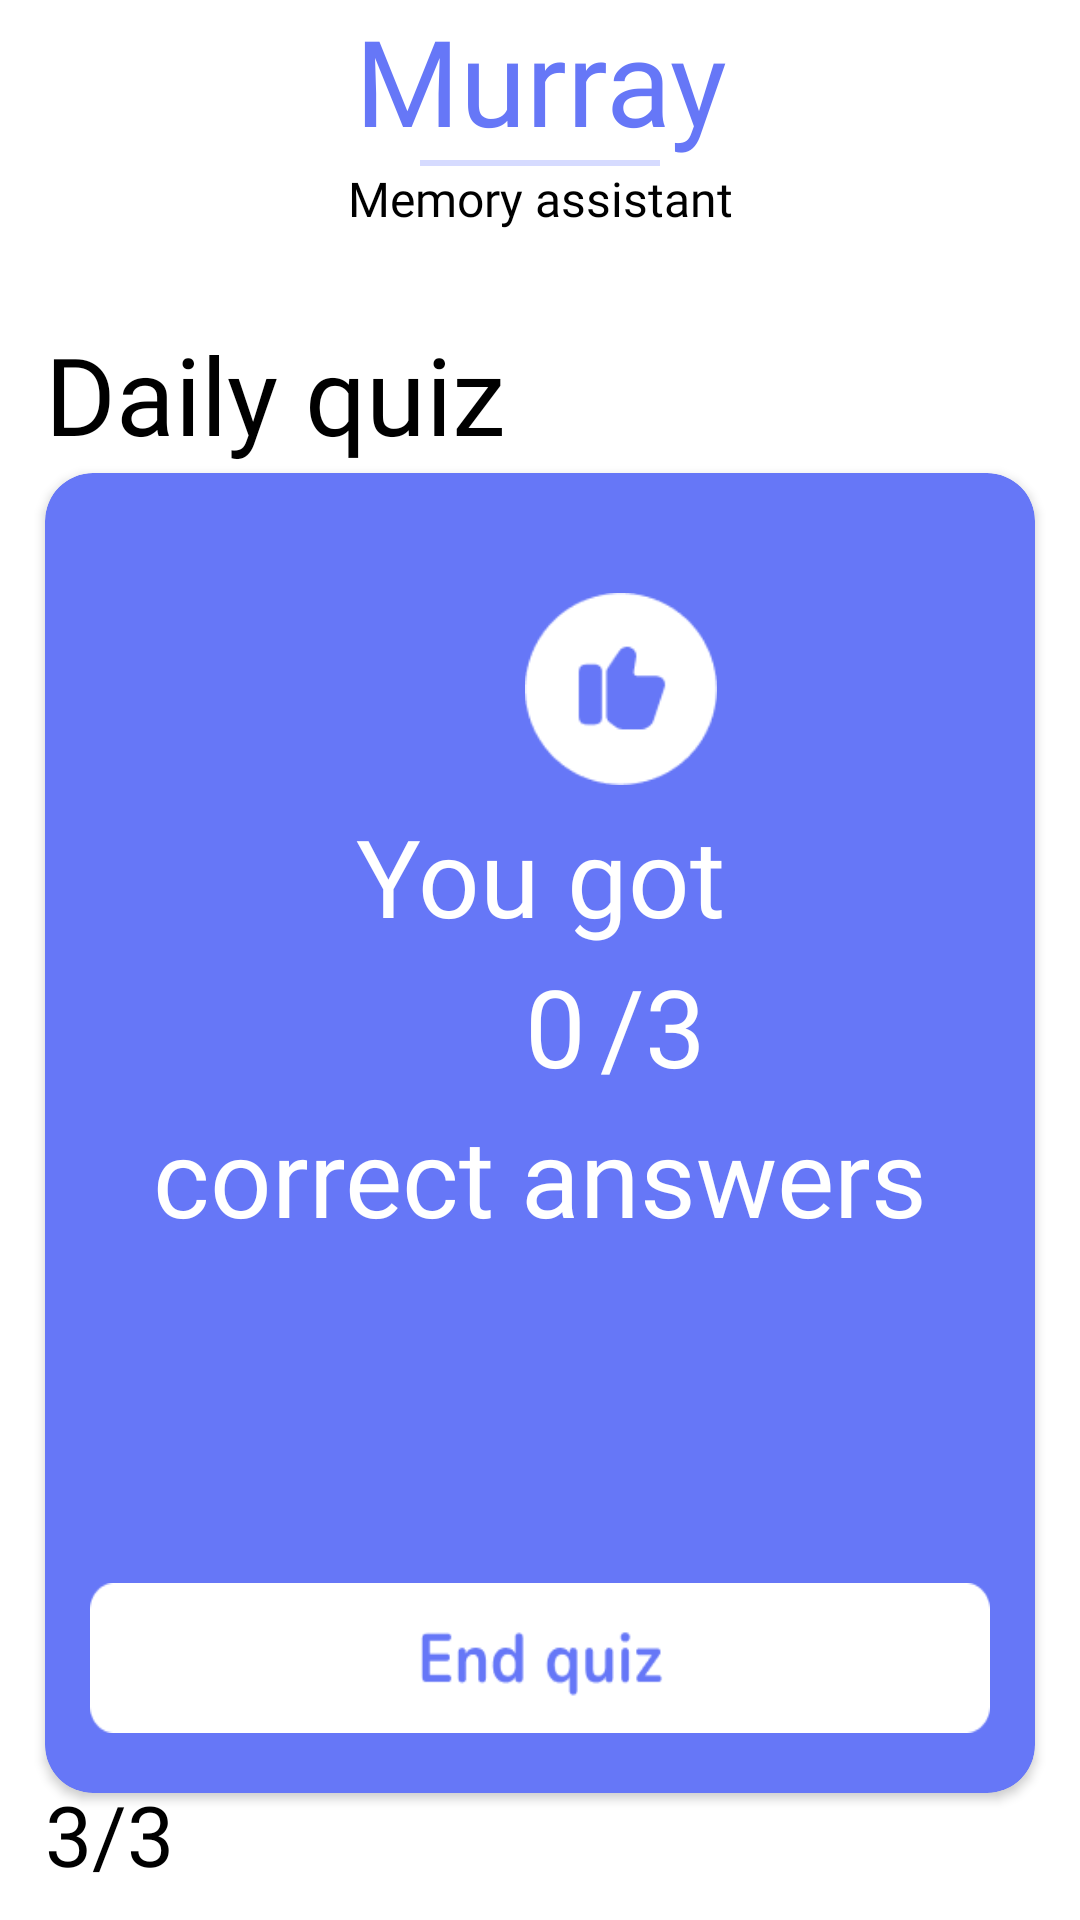

Named icons in this screenshot (1080px×1920px) and their centers, [x,y]:
quiz like: [621,689]
